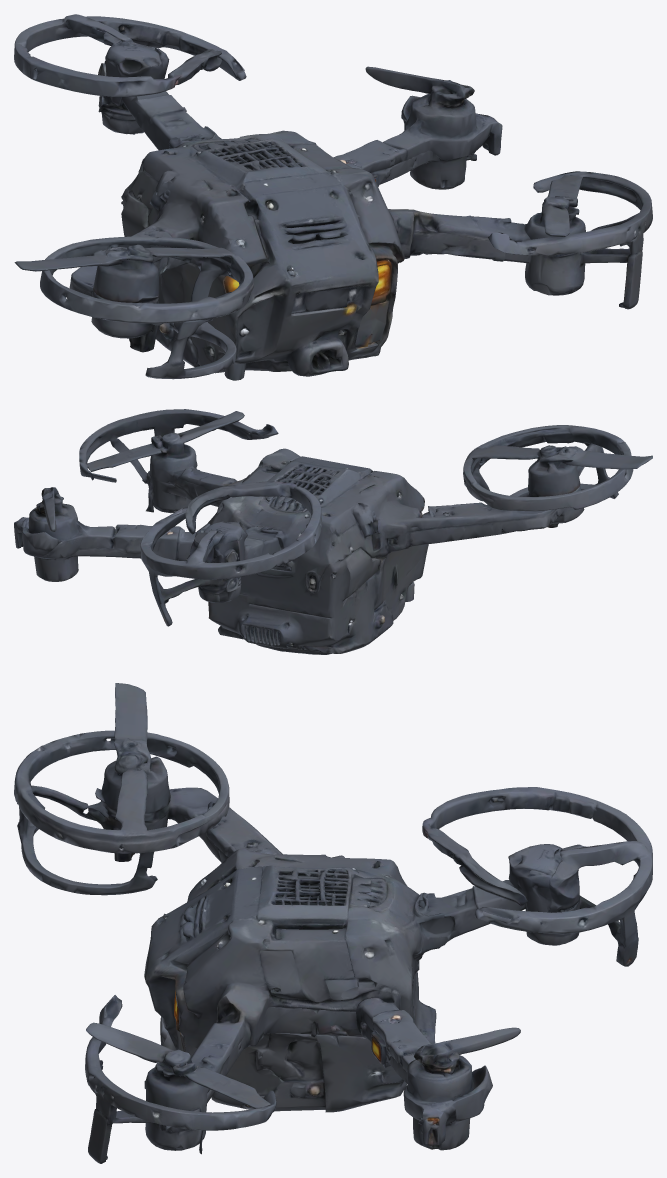
The model's file is ari.glb.
3 views of the same model, one above another, from view 1: azimuth 30°, elevation 25°; view 2: azimuth 150°, elevation 25°; view 3: azimuth 270°, elevation 25° (orthographic). The views are drawn at different scales.
Visible parts, largest first — view 1: tripo_node_2f965e69-02d4-418c-9e34-7689a816f52e; view 2: tripo_node_2f965e69-02d4-418c-9e34-7689a816f52e; view 3: tripo_node_2f965e69-02d4-418c-9e34-7689a816f52e.
Part boxes in pixels (x1,y1,x2,y2): tripo_node_2f965e69-02d4-418c-9e34-7689a816f52e: (14,14,652,380); tripo_node_2f965e69-02d4-418c-9e34-7689a816f52e: (14,409,652,654); tripo_node_2f965e69-02d4-418c-9e34-7689a816f52e: (14,683,652,1163).
Size of the model in its own units: 1 by 0.3554 by 0.8289.
Materials: 1 (1 with a texture image).
